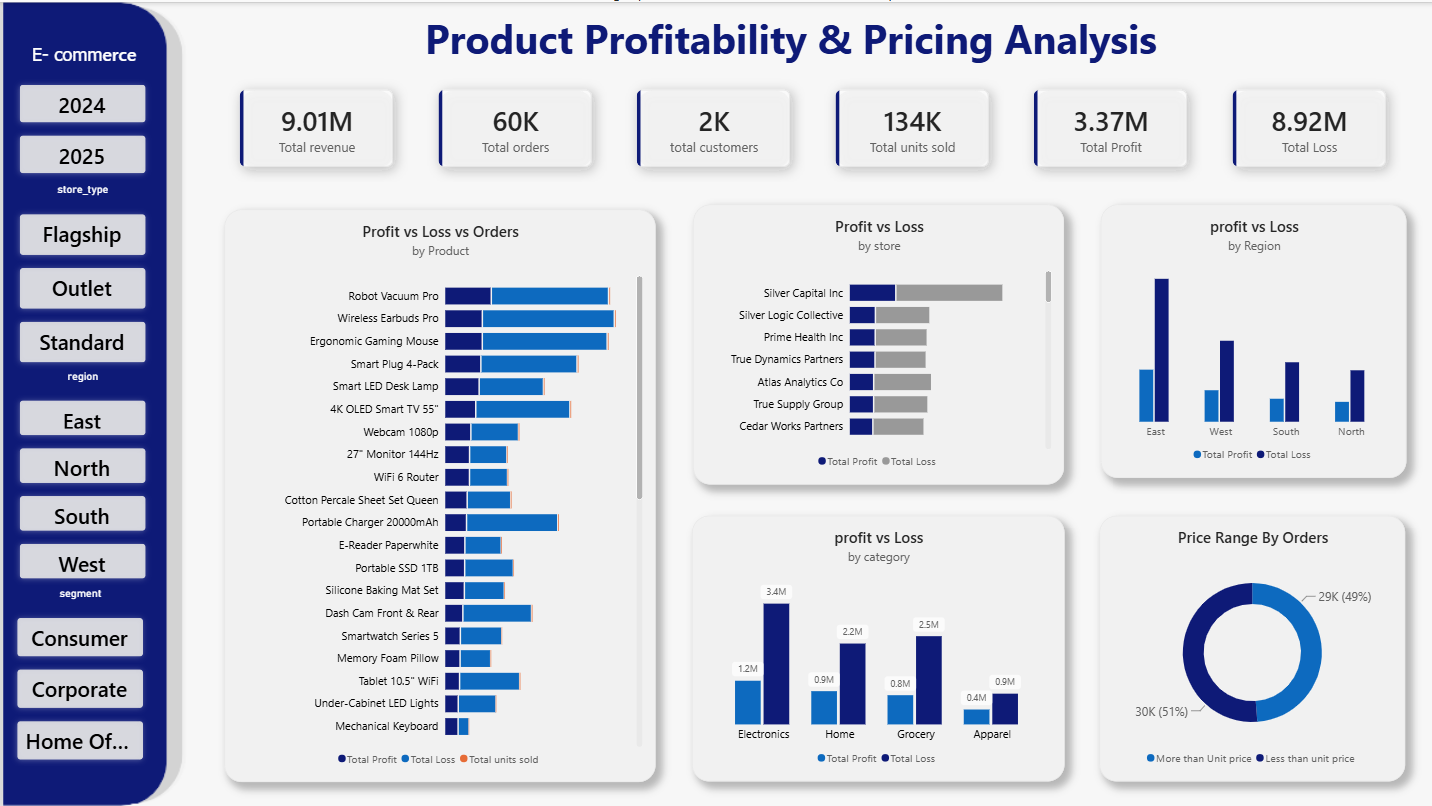

What the dashboard file says about the page in this screenshot:
{"tool":"powerbi","page":{"name":"Page 4","canvas":[1920,1080],"ordinal":1},"visuals":[{"type":"cardVisual","fields":{"Data":["e_commerce customers.Total revenue","e_commerce customers.Total orders","e_commerce customers.total customers","e_commerce customers.Total quantity sold","e_commerce customers.Total Profit","e_commerce customers.Total Loss"]},"box":[298.3,97.7,1582,144.8],"z":0},{"type":"barChart","title":"Profit vs Loss vs Orders","fields":{"Category":["e_commerce products.product_name"],"Y":["e_commerce customers.Total Profit","e_commerce customers.Total Loss","e_commerce customers.Total quantity sold"]},"box":[298.3,277.3,577.3,767.4],"z":1000},{"type":"lineClusteredColumnComboChart","title":"profit vs Loss ","fields":{"Category":["e_commerce products.category"],"Y":["e_commerce customers.Total Profit","e_commerce customers.Total Loss"]},"box":[924.4,689,498.8,355.8],"z":2000},{"type":"advancedSlicerVisual","fields":{"Values":["e_commerce sales.sale_date.Variation.Date Hierarchy.Year"]},"box":[15.7,102.9,186.6,136],"z":3000},{"type":"advancedSlicerVisual","fields":{"Values":["e_commerce store.region"]},"box":[15.7,491.9,186.6,291.3],"z":4000},{"type":"advancedSlicerVisual","fields":{"Values":["e_commerce store.store_type"]},"box":[15.7,242.4,186.6,249.4],"z":5000},{"type":"textbox","box":[280.8,12.2,1566.3,85.5],"z":6000},{"type":"textbox","box":[13.3,53.3,186.7,43.3],"z":7000},{"type":"barChart","title":"Profit vs Loss ","fields":{"Y":["e_commerce customers.Total Profit","e_commerce customers.Total Loss"],"Category":["e_commerce store.store_name"]},"box":[926.2,272.1,497.1,375],"z":8000},{"type":"advancedSlicerVisual","fields":{"Values":["e_commerce customers.segment"]},"box":[12.2,783.1,186.6,242.4],"z":9000},{"type":"donutChart","title":"Price Range By Orders","fields":{"Y":["e_commerce customers.High Price","e_commerce customers.Low Price"]},"box":[1470.4,689,409.9,355.8],"z":10000},{"type":"clusteredColumnChart","title":"profit vs Loss ","fields":{"Category":["e_commerce store.region"],"Y":["e_commerce customers.Total Profit","e_commerce customers.Total Loss"]},"box":[1472.1,272.1,409.9,366.3],"z":11000}]}

Visuals, with their boxes in screenshot pixels (x1, y1, x2, y2), scaled from the page's 1920x1080 canvas onto the 1432x806 screenshot:
cardVisual - e_commerce customers.Total revenue x e_commerce customers.Total orders: 222:73:1402:181
"Profit vs Loss vs Orders" barChart: 222:207:653:780
"profit vs Loss " lineClusteredColumnComboChart: 689:514:1061:780
advancedSlicerVisual - e_commerce sales.sale_date.Variation.Date Hierarchy.Year: 12:77:151:178
advancedSlicerVisual - e_commerce store.region: 12:367:151:584
advancedSlicerVisual - e_commerce store.store_type: 12:181:151:367
textbox: 209:9:1378:73
textbox: 10:40:149:72
"Profit vs Loss " barChart: 691:203:1062:483
advancedSlicerVisual - e_commerce customers.segment: 9:584:148:765
"Price Range By Orders" donutChart: 1097:514:1402:780
"profit vs Loss " clusteredColumnChart: 1098:203:1404:476
